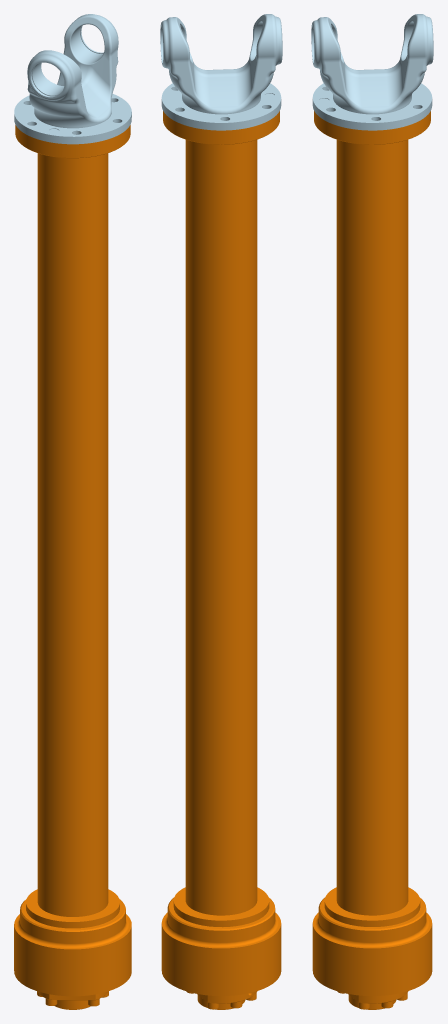
Rendered from verin_haut2.dae.
3 views of the same model, side by side, from view 1: azimuth 30°, elevation 25°; view 2: azimuth 150°, elevation 25°; view 3: azimuth 330°, elevation 25° (orthographic).
Parts seen in each view (by area): view 1: STD04_0220_Tige Actionneur articule_light_M600_4, STD04_0300_Articulation MISTRAL 600_M600_2; view 2: STD04_0220_Tige Actionneur articule_light_M600_4, STD04_0300_Articulation MISTRAL 600_M600_2; view 3: STD04_0220_Tige Actionneur articule_light_M600_4, STD04_0300_Articulation MISTRAL 600_M600_2.
Boxes of the visible parts, left/top/right/bottom form: STD04_0220_Tige Actionneur articule_light_M600_4: left=14, top=125, right=131, bottom=1009; STD04_0300_Articulation MISTRAL 600_M600_2: left=14, top=14, right=131, bottom=144; STD04_0220_Tige Actionneur articule_light_M600_4: left=161, top=111, right=281, bottom=1009; STD04_0300_Articulation MISTRAL 600_M600_2: left=160, top=14, right=282, bottom=130; STD04_0220_Tige Actionneur articule_light_M600_4: left=312, top=111, right=432, bottom=1009; STD04_0300_Articulation MISTRAL 600_M600_2: left=311, top=14, right=433, bottom=130.
Size of the model in its own units: 0.1027 by 0.1 by 0.9064.
